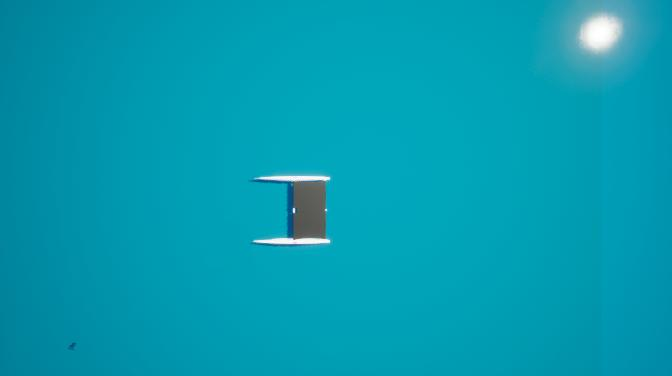boat: (247, 171, 333, 254)
drone: (66, 339, 79, 356)
land_base: (295, 183, 326, 238)
light_reflex: (557, 2, 654, 73)
